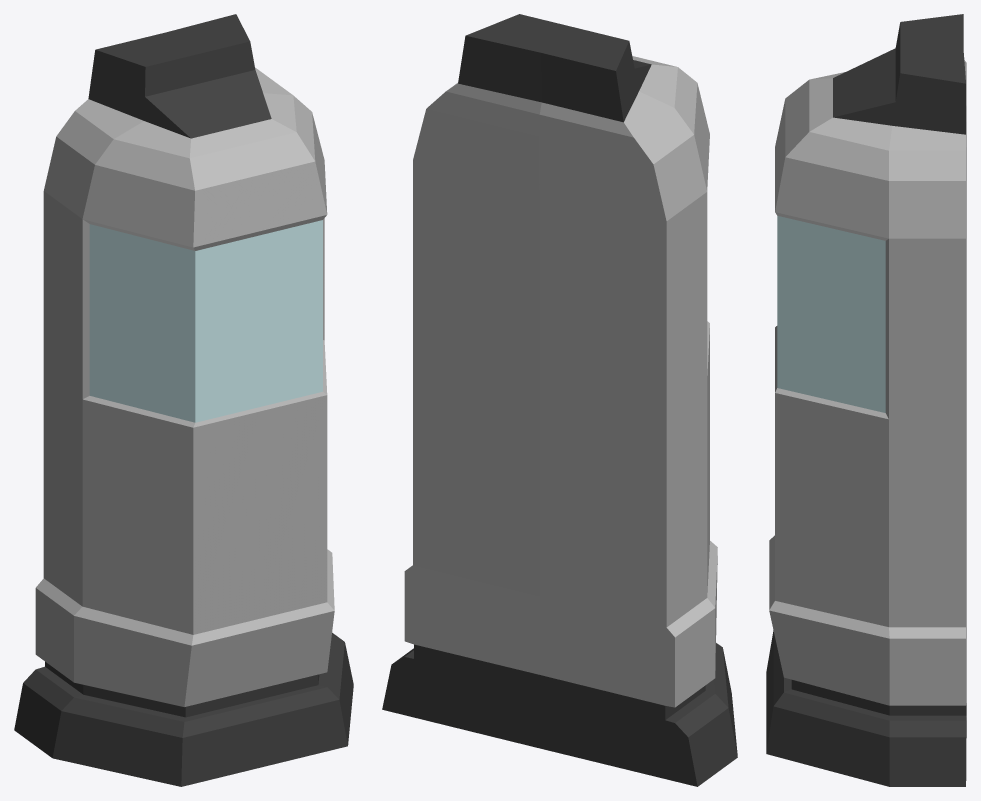
The picture shows the model from 3 angles, left to right: view 1: azimuth 30°, elevation 25°; view 2: azimuth 150°, elevation 25°; view 3: azimuth 270°, elevation 25°; orthographic projection. The views are drawn at different scales.
Visible parts, largest first — view 1: capsule.main, capsule.door.right, capsule.window, capsule.door.left; view 2: capsule.main, capsule.door.right; view 3: capsule.main, capsule.door.left, capsule.window.
Boxes of the visible parts, x1,y1,x2,y2 form: capsule.main: [14, 14, 353, 786]; capsule.door.right: [74, 396, 263, 706]; capsule.window: [89, 220, 322, 422]; capsule.door.left: [256, 340, 334, 689]; capsule.main: [382, 14, 737, 786]; capsule.door.right: [707, 321, 717, 670]; capsule.main: [766, 14, 966, 786]; capsule.door.left: [769, 357, 889, 705]; capsule.window: [777, 216, 885, 412].
Bounding box in the file's own units: 117 × 246 × 66.98.
